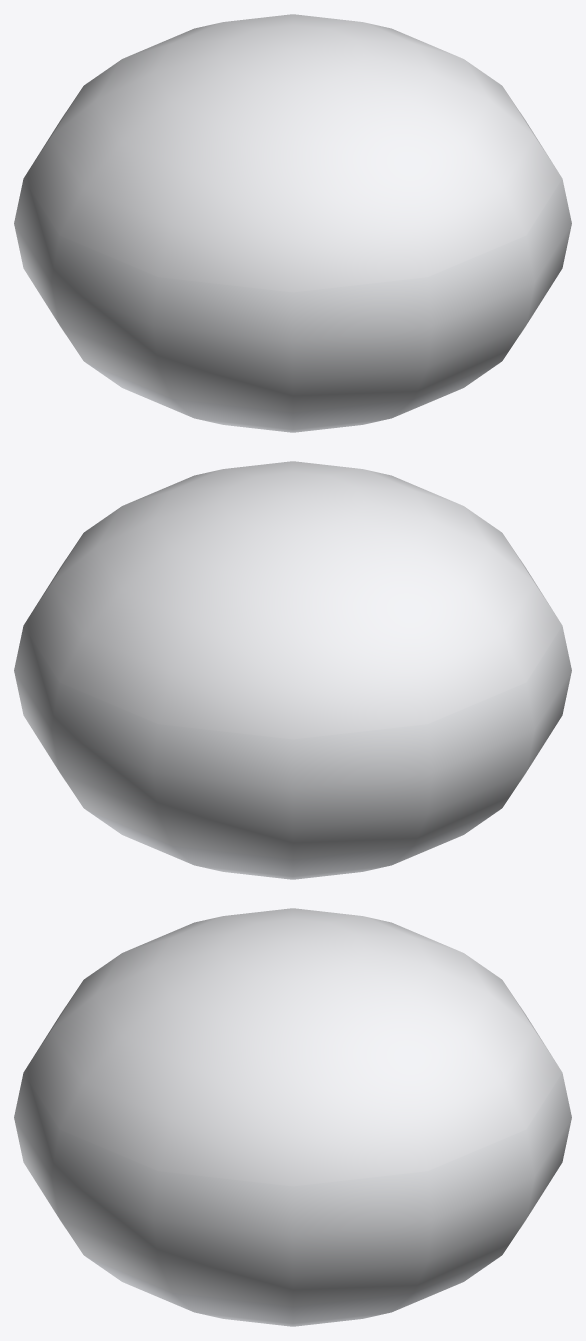
The model's file is bush-50_col.fbx.
The picture shows the model from 3 angles, top to bottom: view 1: azimuth 30°, elevation 25°; view 2: azimuth 150°, elevation 25°; view 3: azimuth 270°, elevation 25°; orthographic projection.
Parts seen in each view (by area): view 1: bush-50.col; view 2: bush-50.col; view 3: bush-50.col.
Part boxes in pixels (x1=…): bush-50.col: x1=14, y1=14, x2=571, y2=432; bush-50.col: x1=14, y1=461, x2=571, y2=879; bush-50.col: x1=14, y1=908, x2=571, y2=1326.
Size of the model in its own units: 0.0585 by 0.0401 by 0.0585.
1 material, 1 textured.
